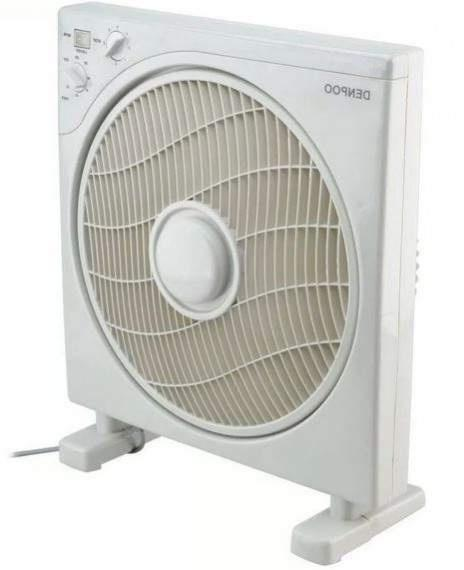fan: (30, 24, 403, 564)
